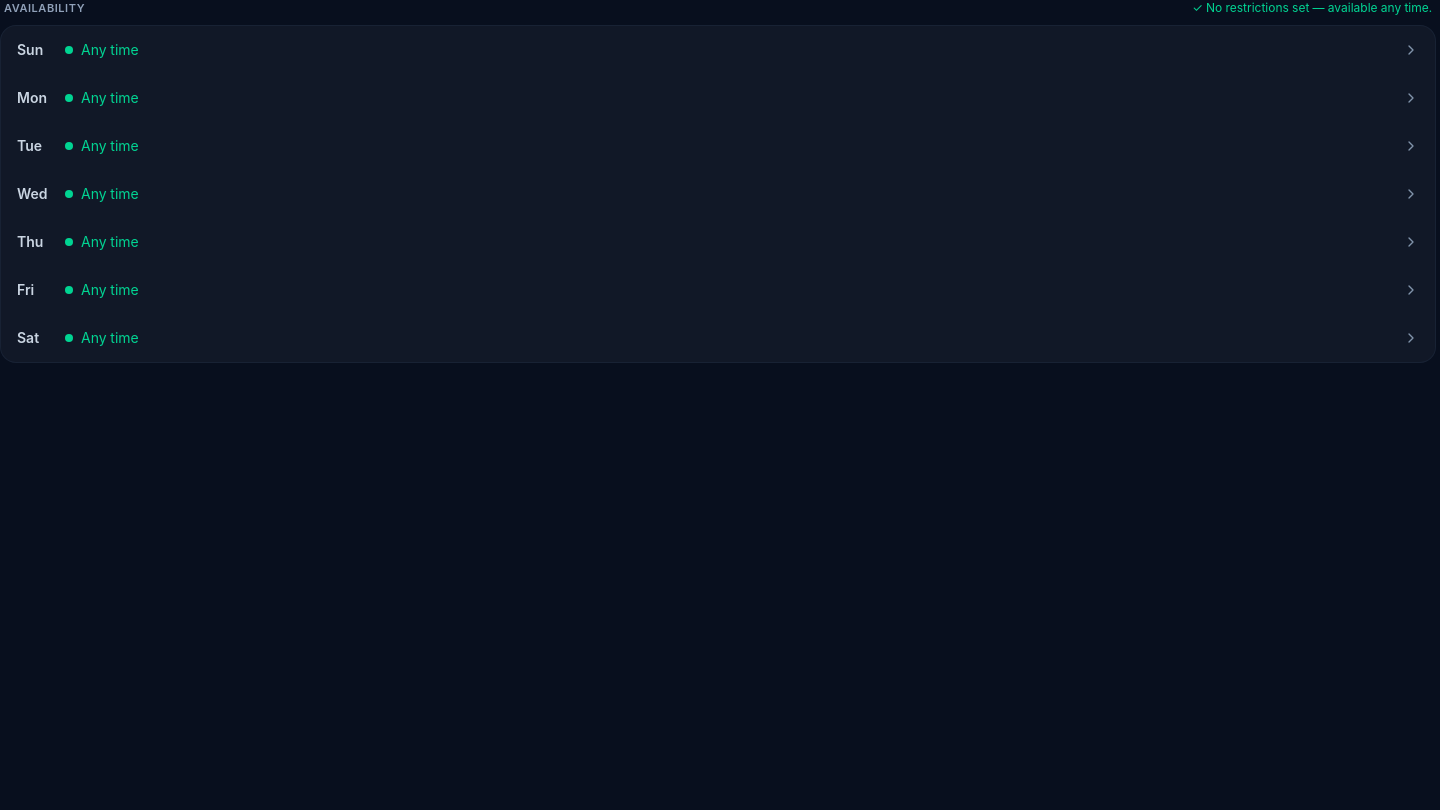
Scenario: AvailabilitySection › tapping a day row opens the bottom sheet for that day
This screenshot has width=1440, height=810.
Click the button "Sun Any time" at [87, 61], box [1, 26, 1435, 74]
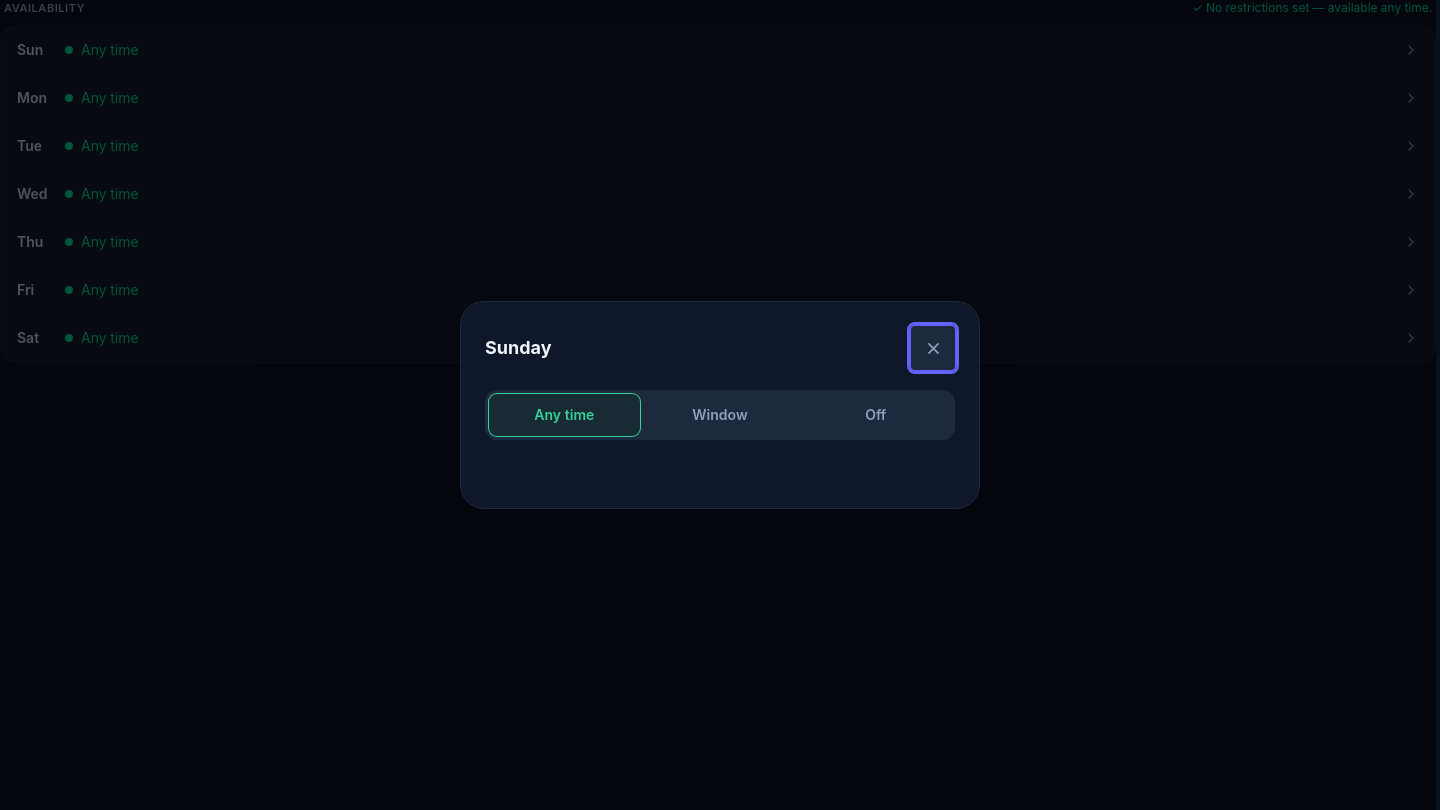
Now the dialog with test id "availability-sheet" is shown, box [460, 301, 980, 509]
Now the heading "Sunday" is shown, box [485, 334, 552, 362]
